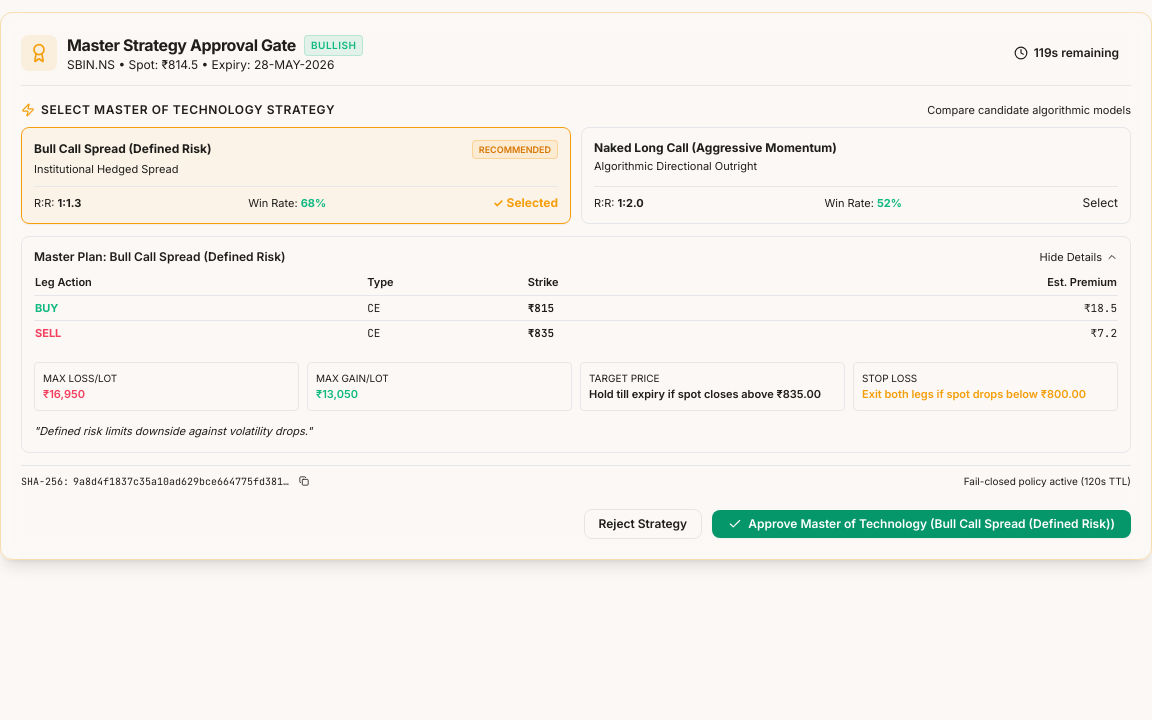
Test: FinanceStrategyApprovalCard Component › submits rejection when Reject Strategy is clicked
Click the button "Reject Strategy" at {"x": 643, "y": 524}, box x1=584 y1=508 x2=702 y2=538
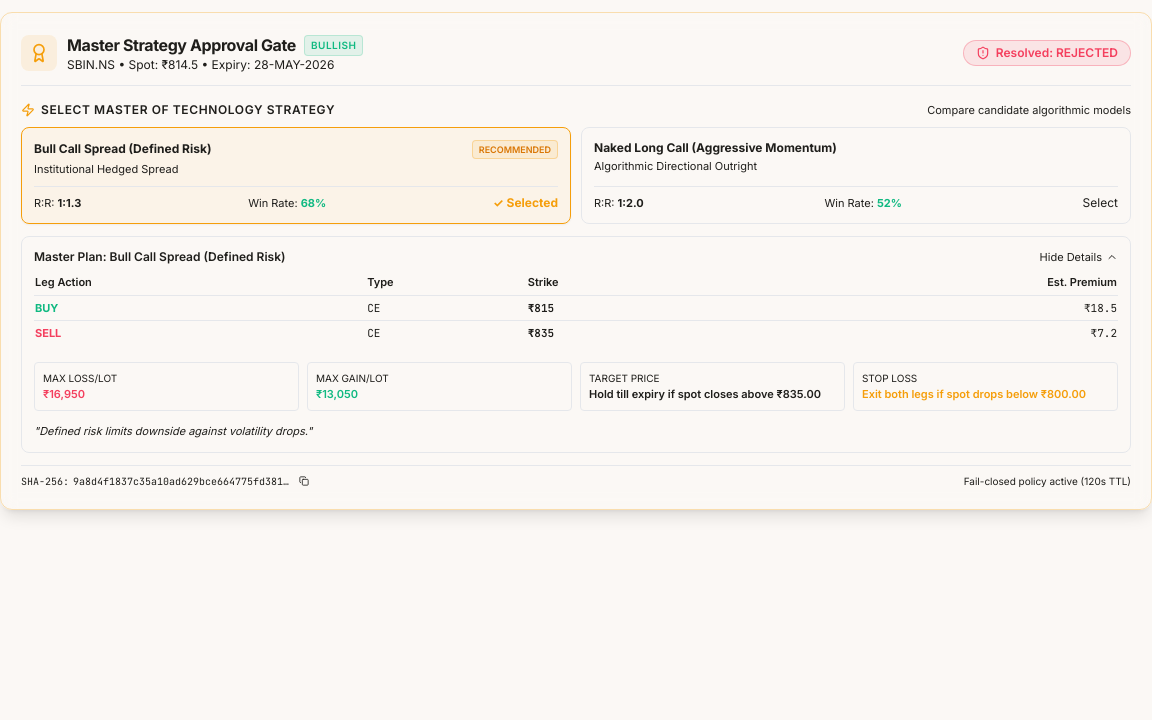
Check: the text "Resolved: REJECTED" is shown, box x1=996 y1=45 x2=1118 y2=61
